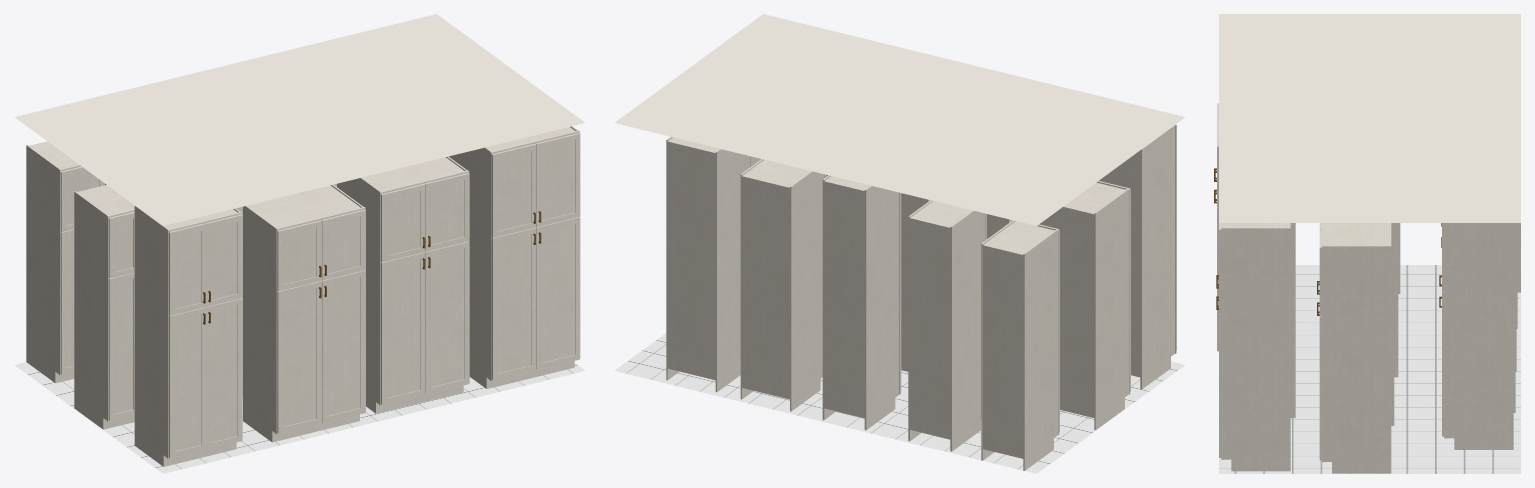
Rendered from Misc_B.dae.
3 renders of one model, left to right at view 1: azimuth 30°, elevation 25°; view 2: azimuth 150°, elevation 25°; view 3: azimuth 270°, elevation 25°, orthographic.
Visible parts, largest first — view 1: Ceiling, PC3684 (×12), PC3693 (×11), PC3093 (×9), PC3687 (×11), PC2484 (×5), PC1884L (×5), Floor; view 2: Ceiling, WP2187R (×4), PC1893L (×3), PC1884L (×4), PC1887L (×4), WP2193L (×2), PC2484 (×3), PC3093 (×2), Floor, PC2493; view 3: Ceiling, Floor, PC3693 (×4), PC3087 (×4), WP2193L (×3), PC3687, PC3084, PC2493, WP2187R.
Part boxes in pixels (x1=…): Ceiling: x1=14, y1=14, x2=584, y2=225; PC3684 (×12): x1=243, y1=185, x2=365, y2=442; PC3693 (×11): x1=457, y1=140, x2=580, y2=388; PC3093 (×9): x1=134, y1=205, x2=242, y2=466; PC3687 (×11): x1=346, y1=157, x2=469, y2=413; PC2484 (×5): x1=74, y1=185, x2=134, y2=429; PC1884L (×5): x1=26, y1=141, x2=99, y2=383; Floor: x1=15, y1=362, x2=585, y2=473; Ceiling: x1=615, y1=14, x2=1185, y2=225; WP2187R (×4): x1=740, y1=159, x2=824, y2=411; PC1893L (×3): x1=822, y1=175, x2=899, y2=430; PC1884L (×4): x1=981, y1=220, x2=1057, y2=470; PC1887L (×4): x1=908, y1=200, x2=984, y2=451; WP2193L (×2): x1=667, y1=143, x2=750, y2=392; PC2484 (×3): x1=1039, y1=182, x2=1128, y2=430; PC3093 (×2): x1=1099, y1=125, x2=1174, y2=389; Floor: x1=614, y1=333, x2=1184, y2=473; PC2493: x1=901, y1=193, x2=926, y2=371; Ceiling: x1=1219, y1=14, x2=1520, y2=222; Floor: x1=1219, y1=265, x2=1520, y2=473; PC3693 (×4): x1=1219, y1=223, x2=1290, y2=471; PC3087 (×4): x1=1319, y1=223, x2=1391, y2=473; WP2193L (×3): x1=1442, y1=223, x2=1513, y2=449; PC3687: x1=1290, y1=223, x2=1295, y2=417; PC3084: x1=1391, y1=223, x2=1394, y2=425; PC2493: x1=1394, y1=223, x2=1398, y2=377; WP2187R: x1=1513, y1=223, x2=1515, y2=412.
Size of the model in its own units: 171 by 106 by 96.
Materials: 5 (3 with a texture image).
